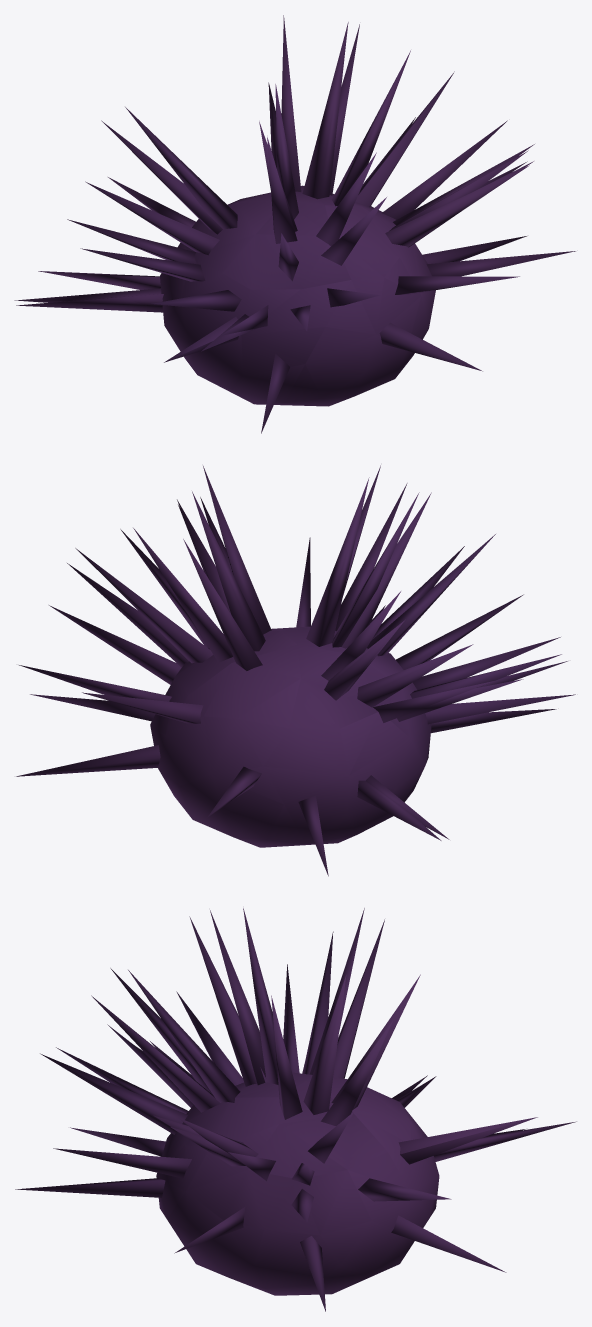
File: shore_gc_urchin_lod1.glb
The picture shows the model from 3 angles, top to bottom: view 1: azimuth 30°, elevation 25°; view 2: azimuth 150°, elevation 25°; view 3: azimuth 270°, elevation 25°; orthographic projection. The views are drawn at different scales.
Parts seen in each view (by area): view 1: shore_gc_urchin.001; view 2: shore_gc_urchin.001; view 3: shore_gc_urchin.001.
Part boxes in pixels (bbox=[...]): shore_gc_urchin.001: bbox=[14, 15, 575, 433]; shore_gc_urchin.001: bbox=[16, 465, 575, 876]; shore_gc_urchin.001: bbox=[15, 908, 576, 1311].
Size of the model in its own units: 2.14 by 1.5 by 2.19.
